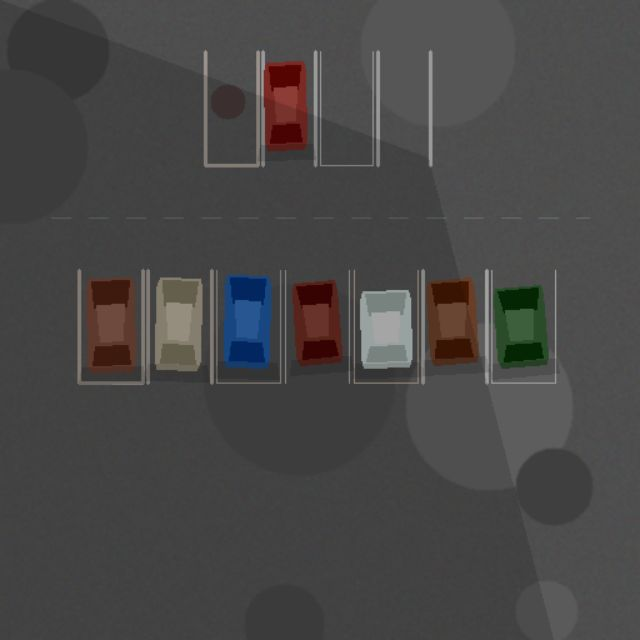space-empty: (320, 51, 373, 165), (377, 51, 430, 165), (205, 51, 257, 165)
space-occupied: (79, 270, 143, 383), (147, 270, 211, 383), (216, 270, 280, 383), (285, 270, 349, 383), (491, 270, 555, 383), (354, 270, 417, 383), (423, 270, 486, 383), (263, 51, 315, 165)
